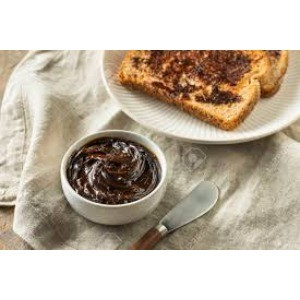yeast spread_brain food: (55, 132, 168, 228)
